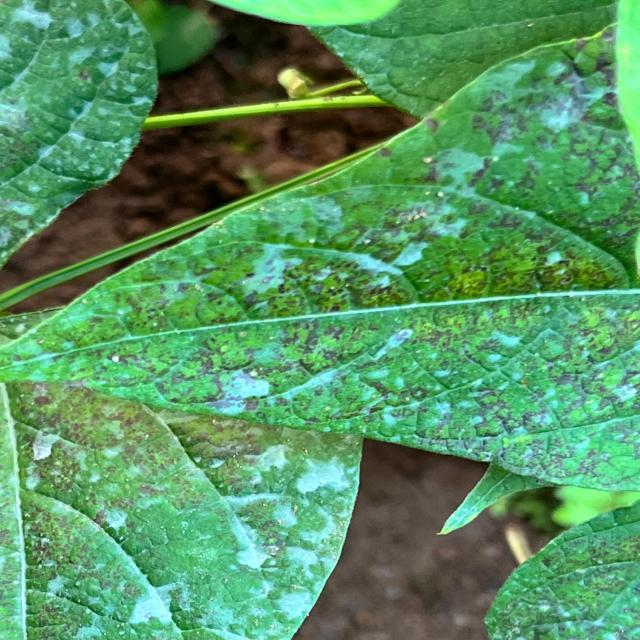embun tepung: (172, 438, 368, 639), (235, 245, 329, 302)
